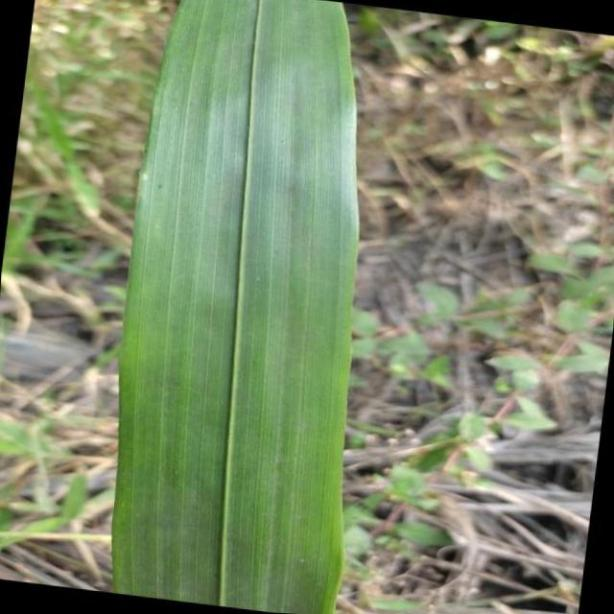Healthy: (106, 3, 360, 614)
